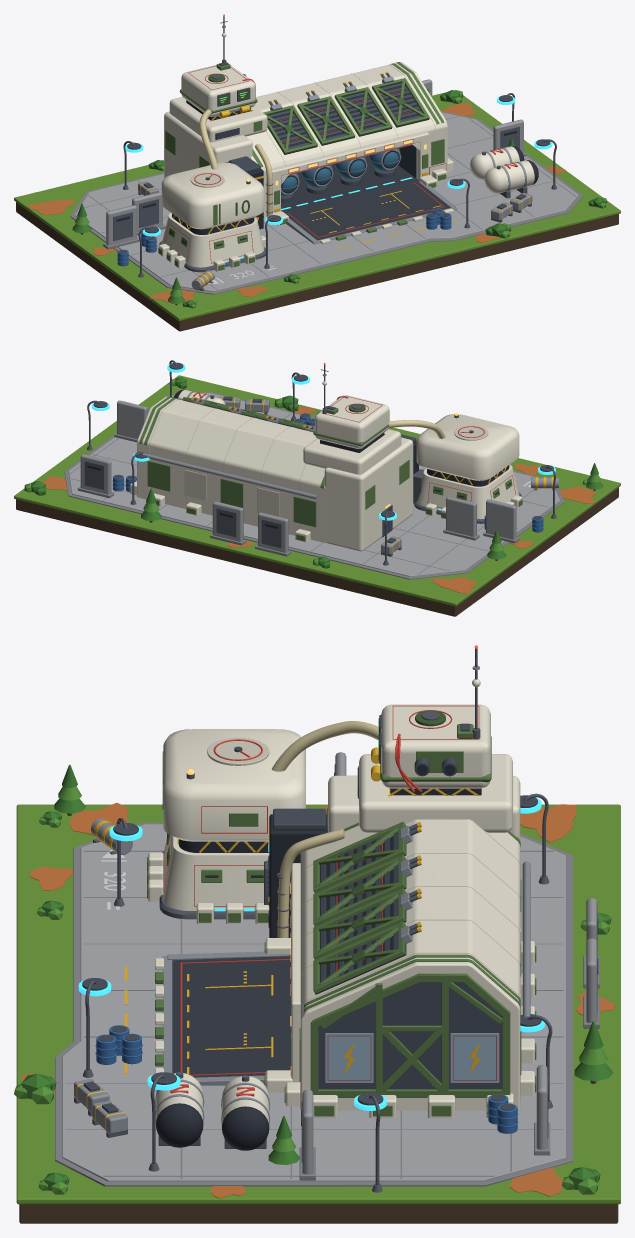
3 views of the same model, one above another, from view 1: azimuth 30°, elevation 25°; view 2: azimuth 150°, elevation 25°; view 3: azimuth 270°, elevation 25° (orthographic). The views are drawn at different scales.
Parts seen in each view (by area): view 1: pad, tile_grass, hangar, tile_earth, ramp, tower_cap, tower_skirt, annex, module, pad_rim, bay_floor, tier (+16 smaller); view 2: hangar, tile_grass, pad, tile_earth, annex, tower_cap, module, tier, tower_skirt, pad_rim, wall1, wall0 (+18 smaller); view 3: pad, tile_grass, hangar, ramp, tower_cap, tile_earth, end_panel, pad_rim, module, tier, tower_skirt, end_border (+27 smaller).
Part boxes in pixels (x1,y1,x2,y2): pad: (75,112,578,291); tile_grass: (14,90,620,320); hangar: (246,62,447,219); tile_earth: (16,202,618,331); ramp: (283,179,449,240); tower_cap: (161,162,264,229); tower_skirt: (161,213,264,267); annex: (164,111,252,178); module: (181,65,255,116); pad_rim: (70,111,583,294); bay_floor: (281,156,417,211); tier: (169,97,267,142); hangar: (137,396,326,543); tile_grass: (14,375,620,606); pad: (68,393,560,576); tile_earth: (16,487,618,616); annex: (324,437,413,551); tower_cap: (416,414,519,480); module: (315,395,389,449); tier: (303,429,401,474); tower_skirt: (417,464,519,519); pad_rim: (64,392,564,579); wall1: (446,496,476,536); wall0: (486,499,516,539); pad: (62,824,565,1181); tile_grass: (16,804,620,1204); hangar: (300,819,520,1110); ramp: (172,954,291,1077); tower_cap: (163,729,305,841); tile_earth: (19,1204,618,1223); end_panel: (318,982,502,1089); pad_rim: (55,822,573,1186); module: (381,704,490,788); tier: (359,754,512,832); tower_skirt: (163,835,269,910); end_border: (310,973,510,1097).
Bounding box in the file's own units: 51.16 × 20.35 × 33.15.
